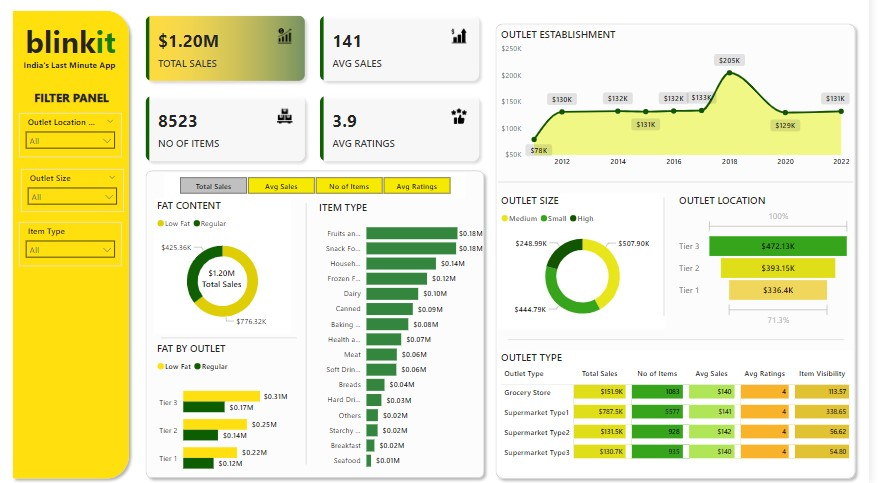

What the dashboard file says about the page in this screenshot:
{"tool":"powerbi","page":{"name":"Page 1","canvas":[1400,800],"ordinal":0},"visuals":[{"type":"shape","box":[16.7,30,205,770],"z":0},{"type":"textbox","box":[32.1,51.4,171.9,77.1],"z":1000},{"type":"textbox","box":[32.1,112.4,168.7,32.1],"z":2000},{"type":"cardVisual","fields":{"Data":["BlinkIT Grocery Data.Total Sales","BlinkIT Grocery Data.Avg Sales","BlinkIT Grocery Data.No of Items","BlinkIT Grocery Data.Avg Ratings"]},"box":[221.7,30.5,570.3,269.9],"z":3000},{"type":"shape","box":[230,288.3,561.7,511.7],"z":4000},{"type":"slicer","fields":{"Values":["Metrics.Metrics"]},"box":[268.3,300.4,483.5,40.2],"z":5000},{"type":"donutChart","title":"FAT CONTENT","fields":{"Y":["BlinkIT Grocery Data.Total Sales"],"Category":["BlinkIT Grocery Data.Item Fat Content"]},"box":[251.7,340,220,218.3],"z":6000},{"type":"cardVisual","fields":{"Data":["BlinkIT Grocery Data.Total Sales"]},"box":[301.7,435,118.3,65],"z":7000},{"type":"clusteredBarChart","title":"FAT BY OUTLET","fields":{"Y":["BlinkIT Grocery Data.Total Sales"],"Category":["BlinkIT Grocery Data.Outlet Location Type"],"Series":["BlinkIT Grocery Data.Item Fat Content"]},"box":[251.7,570,220,230],"z":8000},{"type":"shape","box":[967.1,639.4,218.5,28.9],"z":9000},{"type":"shape","box":[486.7,348.3,20,420],"z":10000},{"type":"barChart","title":"ITEM TYPE","fields":{"Y":["BlinkIT Grocery Data.Total Sales"],"Category":["BlinkIT Grocery Data.Item Type"]},"box":[511.7,343.3,273.3,443.3],"z":11000},{"type":"shape","box":[792,51.4,596,749],"z":12000},{"type":"lineChart","title":"OUTLET ESTABLISHMENT","fields":{"Category":["BlinkIT Grocery Data.Outlet Establishment Year"],"Y":["BlinkIT Grocery Data.Total Sales"]},"box":[804.8,65.9,570.3,234.5],"z":13000},{"type":"donutChart","title":"OUTLET SIZE ","fields":{"Y":["BlinkIT Grocery Data.Total Sales"],"Category":["BlinkIT Grocery Data.Outlet Size"]},"box":[804.8,332.5,271.5,218.5],"z":14000},{"type":"shape","box":[804.8,300.4,570.3,28.9],"z":15000},{"type":"funnel","title":"OUTLET LOCATION","fields":{"Category":["BlinkIT Grocery Data.Outlet Location Type"],"Y":["Sum(BlinkIT Grocery Data.Sales)"]},"box":[1090.8,332.5,284.3,220.1],"z":16000},{"type":"shape","box":[820.9,559,539.8,17.7],"z":17000},{"type":"shape","box":[263.3,551.7,218.3,28.3],"z":18000},{"type":"shape","box":[1066.7,339,9.6,191.2],"z":19000},{"type":"pivotTable","title":"OUTLET TYPE","fields":{"Rows":["BlinkIT Grocery Data.Outlet Type"],"Values":["BlinkIT Grocery Data.Total Sales","BlinkIT Grocery Data.No of Items","BlinkIT Grocery Data.Avg Sales","BlinkIT Grocery Data.Avg Ratings","Sum(BlinkIT Grocery Data.Item Visibility)"]},"box":[804.8,584.7,570.3,202.4],"z":20000},{"type":"slicer","fields":{"Values":["BlinkIT Grocery Data.Outlet Location Type"]},"box":[35.3,204,165.5,70.7],"z":21000},{"type":"slicer","fields":{"Values":["BlinkIT Grocery Data.Outlet Size"]},"box":[38.6,294,165.5,69.1],"z":22000},{"type":"slicer","fields":{"Values":["BlinkIT Grocery Data.Item Type"]},"box":[35.3,379.1,165.5,70.7],"z":23000},{"type":"textbox","box":[35.3,160.6,168.7,43.4],"z":24000}]}

Visuals, with their boxes on the page's 1400x800 design canvas (x1, y1, x2, y2). These are canvas units, not pixel positions in the 878x483 screenshot, which may show the page scaled, cropped or inside an application window:
shape: (17,30,222,800)
textbox: (32,51,204,128)
textbox: (32,112,201,144)
cardVisual - BlinkIT Grocery Data.Total Sales x BlinkIT Grocery Data.Avg Sales: (222,30,792,300)
shape: (230,288,792,800)
slicer - Metrics.Metrics: (268,300,752,341)
"FAT CONTENT" donutChart: (252,340,472,558)
cardVisual - BlinkIT Grocery Data.Total Sales: (302,435,420,500)
"FAT BY OUTLET" clusteredBarChart: (252,570,472,800)
shape: (967,639,1186,668)
shape: (487,348,507,768)
"ITEM TYPE" barChart: (512,343,785,787)
shape: (792,51,1388,800)
"OUTLET ESTABLISHMENT" lineChart: (805,66,1375,300)
"OUTLET SIZE " donutChart: (805,332,1076,551)
shape: (805,300,1375,329)
"OUTLET LOCATION" funnel: (1091,332,1375,553)
shape: (821,559,1361,577)
shape: (263,552,482,580)
shape: (1067,339,1076,530)
"OUTLET TYPE" pivotTable: (805,585,1375,787)
slicer - BlinkIT Grocery Data.Outlet Location Type: (35,204,201,275)
slicer - BlinkIT Grocery Data.Outlet Size: (39,294,204,363)
slicer - BlinkIT Grocery Data.Item Type: (35,379,201,450)
textbox: (35,161,204,204)
